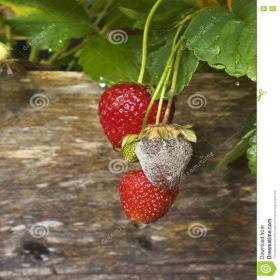Gray Mold: (134, 120, 197, 191)
